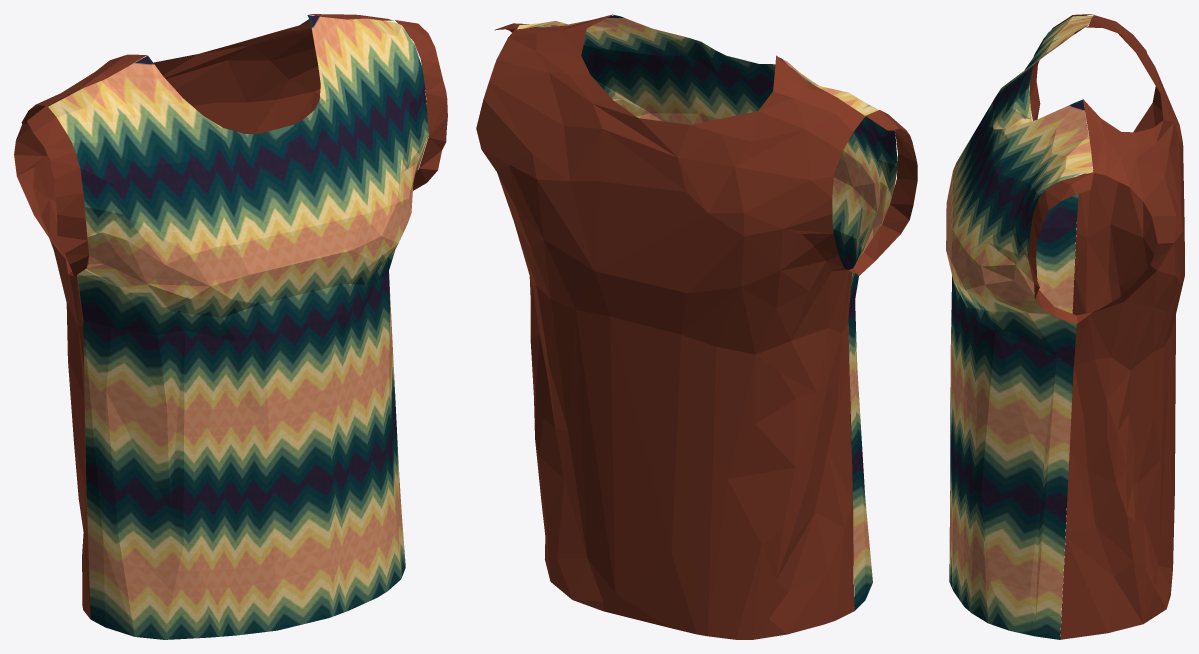
3 views of the same model, side by side, from view 1: azimuth 30°, elevation 25°; view 2: azimuth 150°, elevation 25°; view 3: azimuth 270°, elevation 25° (orthographic). The views are drawn at different scales.
Visible parts, largest first — view 1: T_shirt.007; view 2: T_shirt.007; view 3: T_shirt.007.
Boxes of the visible parts, x1,y1,x2,y2 form: T_shirt.007: [14, 14, 447, 639]; T_shirt.007: [476, 14, 917, 639]; T_shirt.007: [946, 14, 1184, 639].
Size of the model in its own units: 0.2935 by 0.3892 by 0.1639.
Materials: 2 (1 with a texture image).
